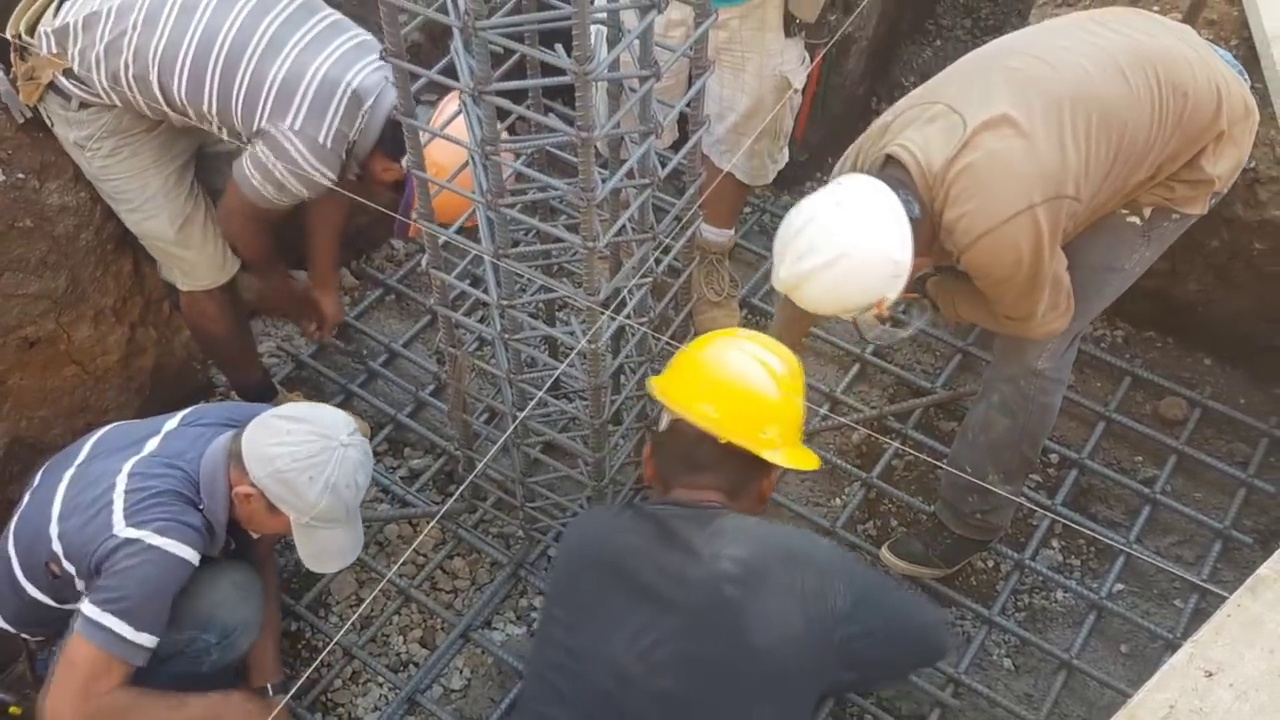helmet: (648, 323, 820, 472), (772, 170, 910, 321), (413, 100, 520, 229)
helmet-off: (230, 401, 375, 579)
helmet-on: (640, 317, 820, 515), (354, 30, 513, 234), (772, 148, 942, 320)
person: (775, 2, 1280, 573), (0, 0, 519, 390), (515, 316, 951, 714), (0, 404, 377, 718)
